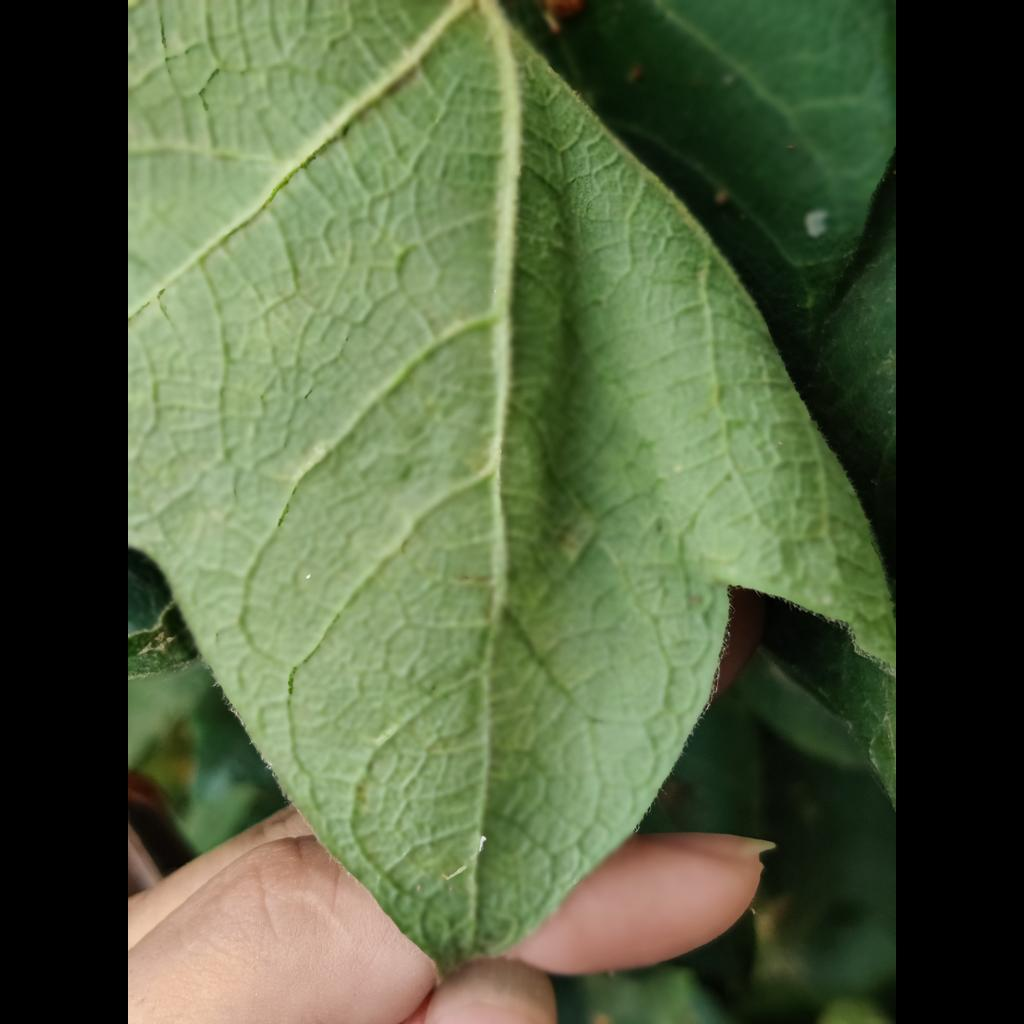nymph: (804, 209, 826, 237), (479, 835, 486, 853), (673, 464, 684, 474), (305, 574, 311, 580)
